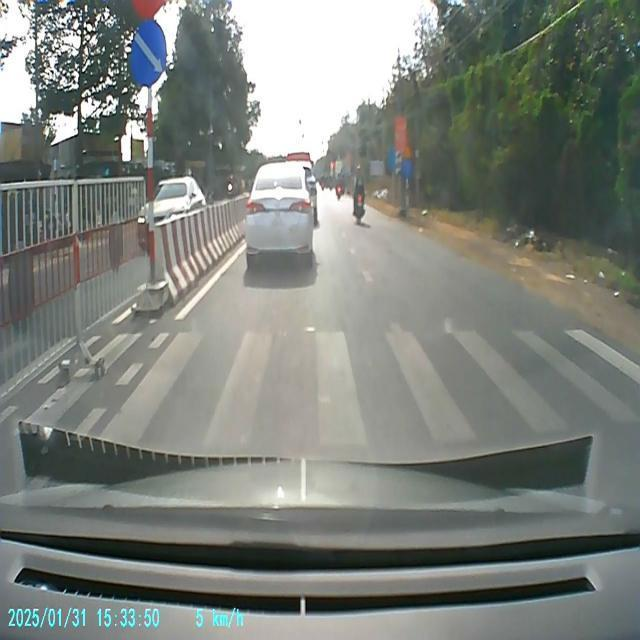302a-huong-phai-di-vong-chuong-ngai-vat-1: (129, 20, 167, 86)
